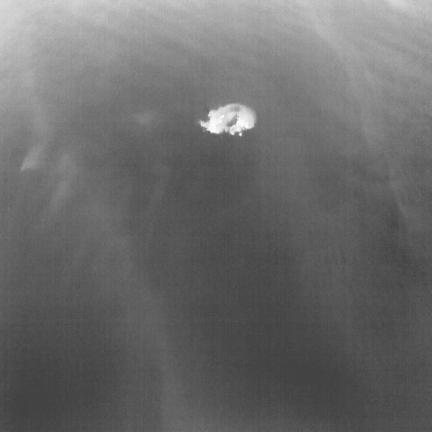flukeprints: (199, 103, 256, 135)
